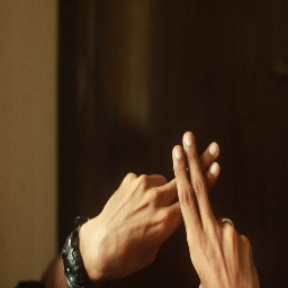F: (136, 116, 247, 234)
